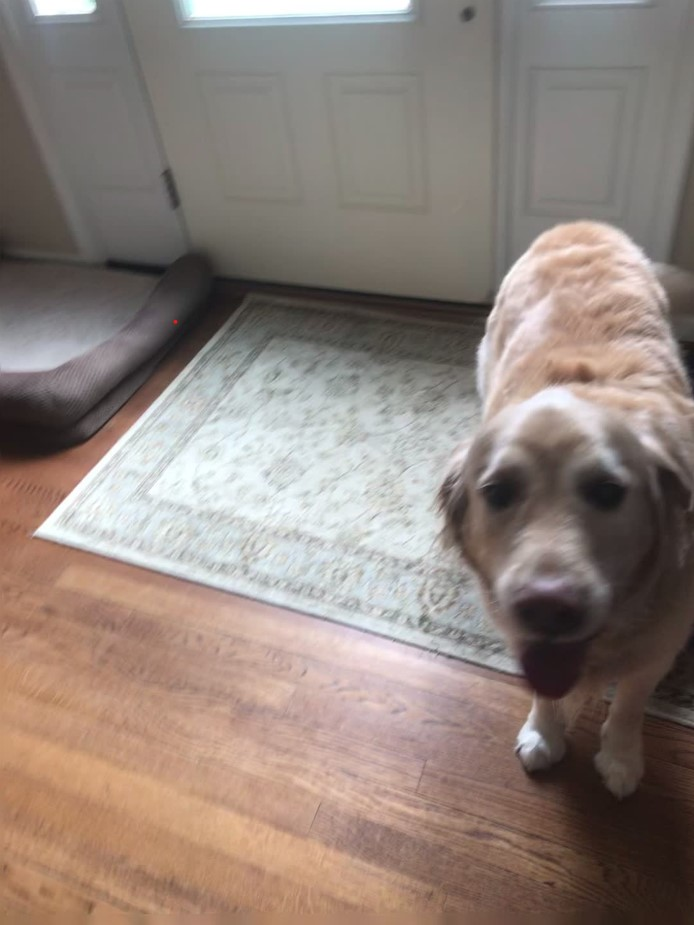bella: (436, 387, 690, 699)
